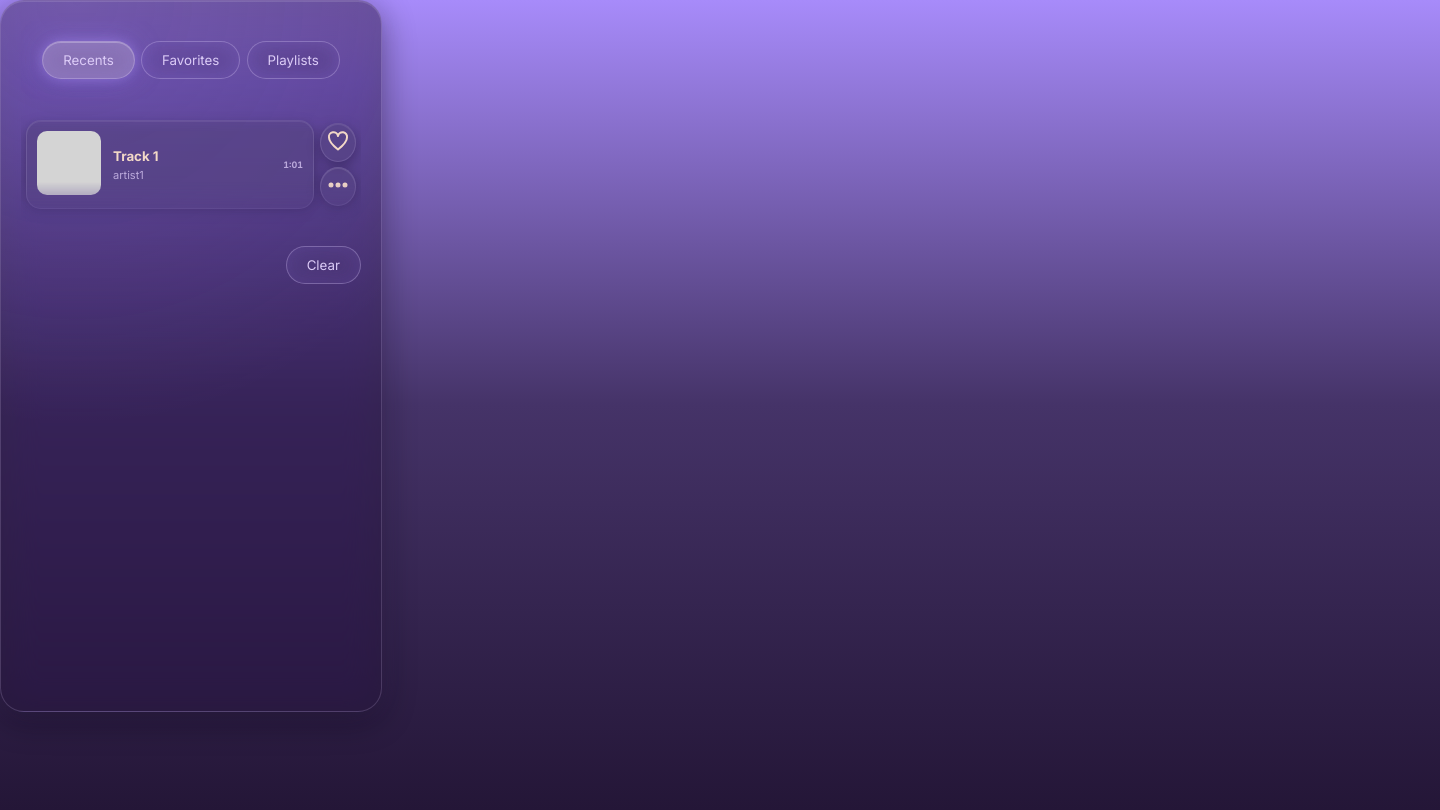
it: PlaylistPane › opening a playlist shows its tracks and turns the tab into '< Back'
Click the button "Playlists" at {"x": 293, "y": 60}, box left=246, top=41, right=340, bottom=79
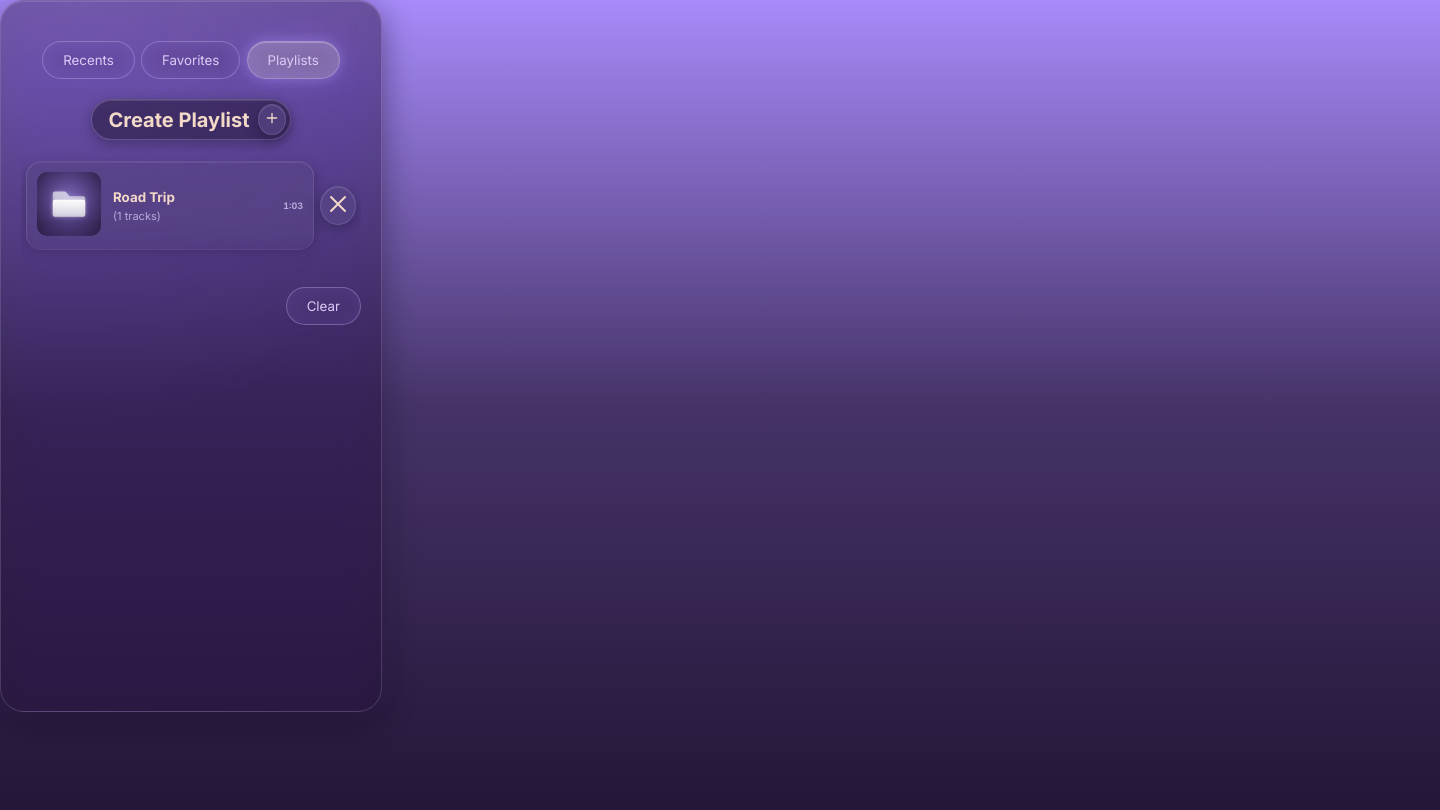
Click the button "Road Trip (1 tracks) 1:03" at {"x": 170, "y": 206}, box left=26, top=161, right=314, bottom=250
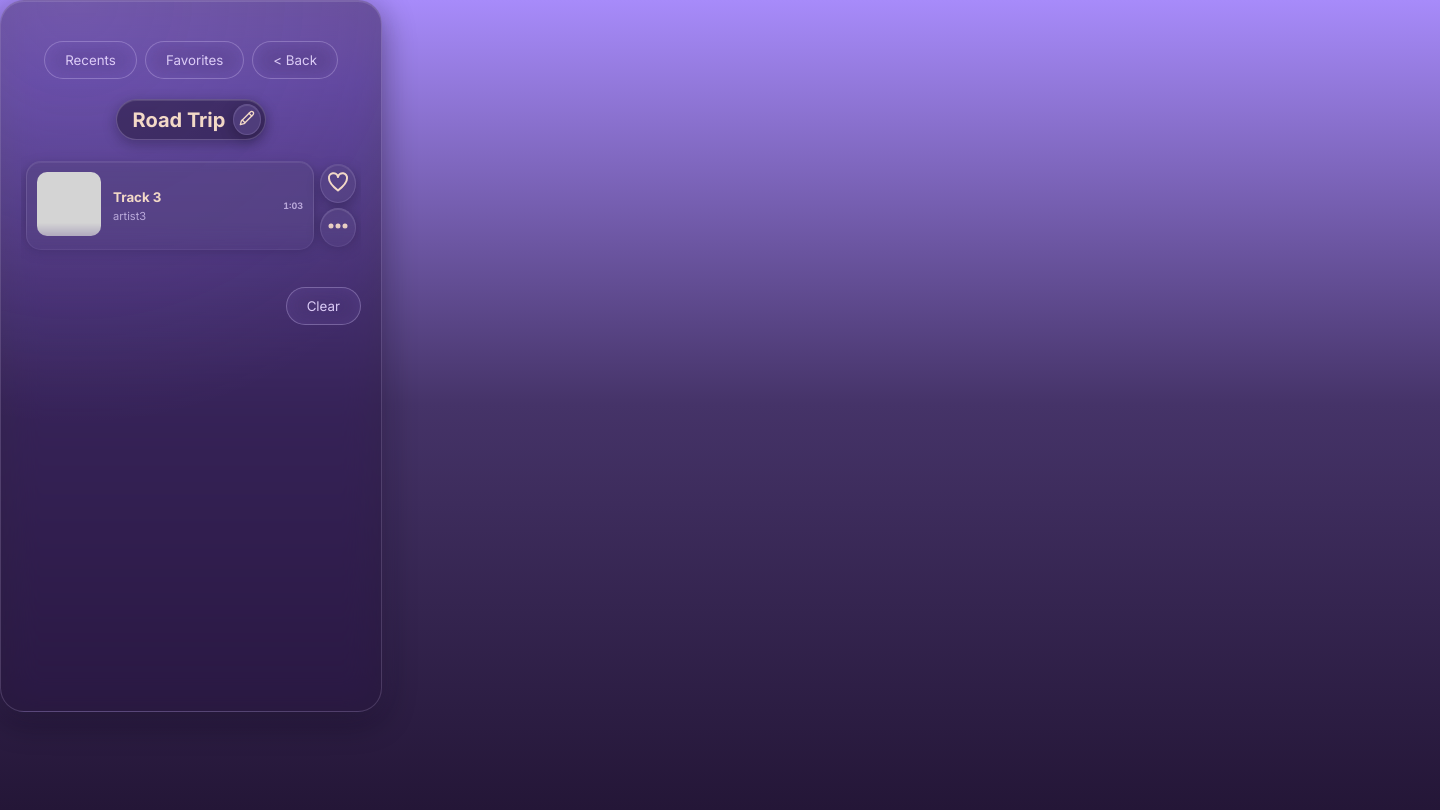
Expected: the heading "Road Trip" is shown, left=133, top=108, right=225, bottom=132
Expected: the heading "Track 3" is shown, left=113, top=188, right=162, bottom=204
Expected: the button "< Back" is shown, left=252, top=41, right=338, bottom=79
